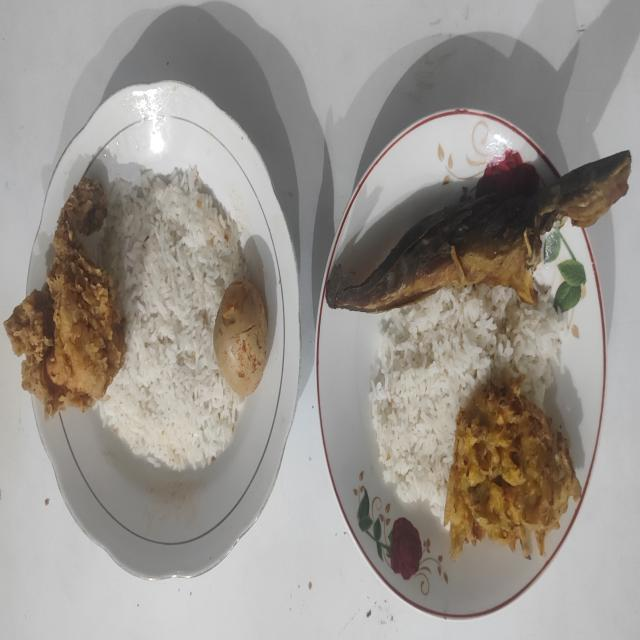nasi_putih: (369, 284, 561, 516), (100, 166, 246, 470)
